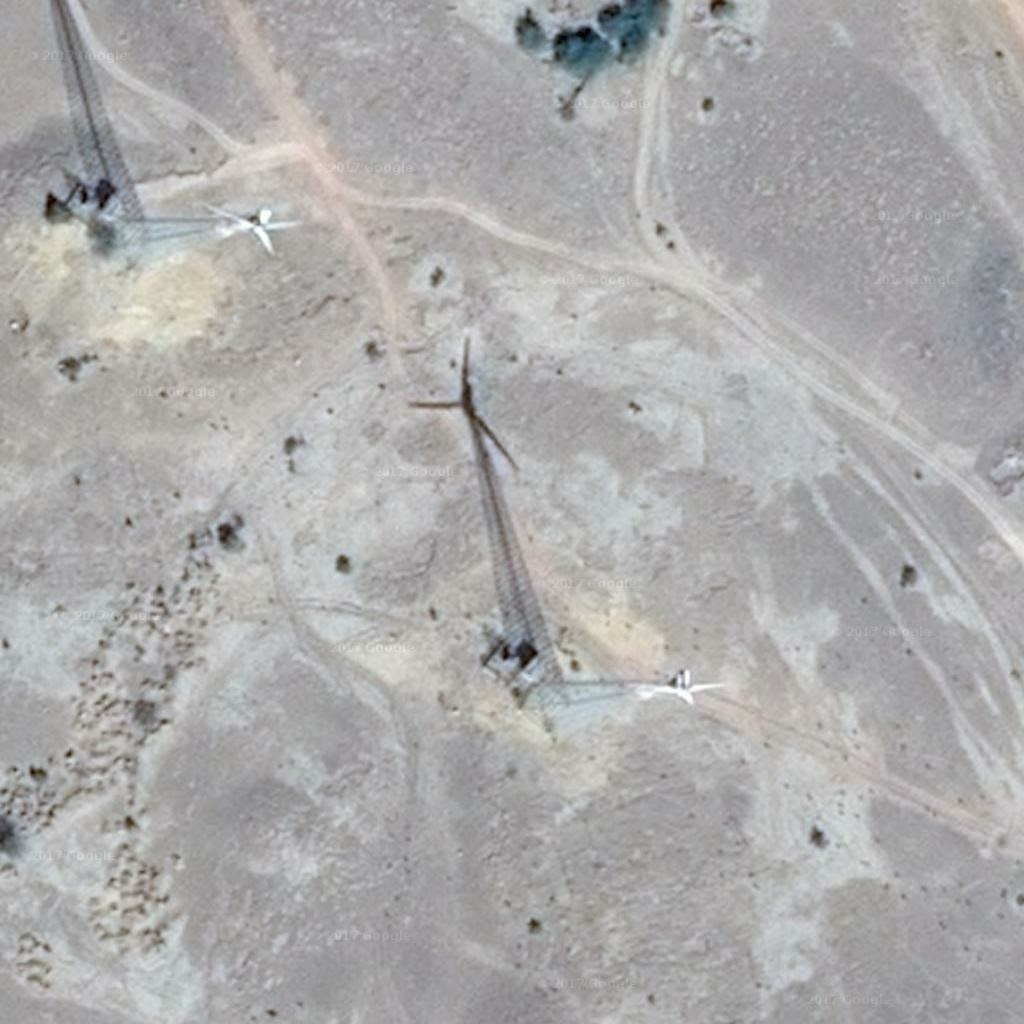Windmill: (398, 342, 548, 622)
